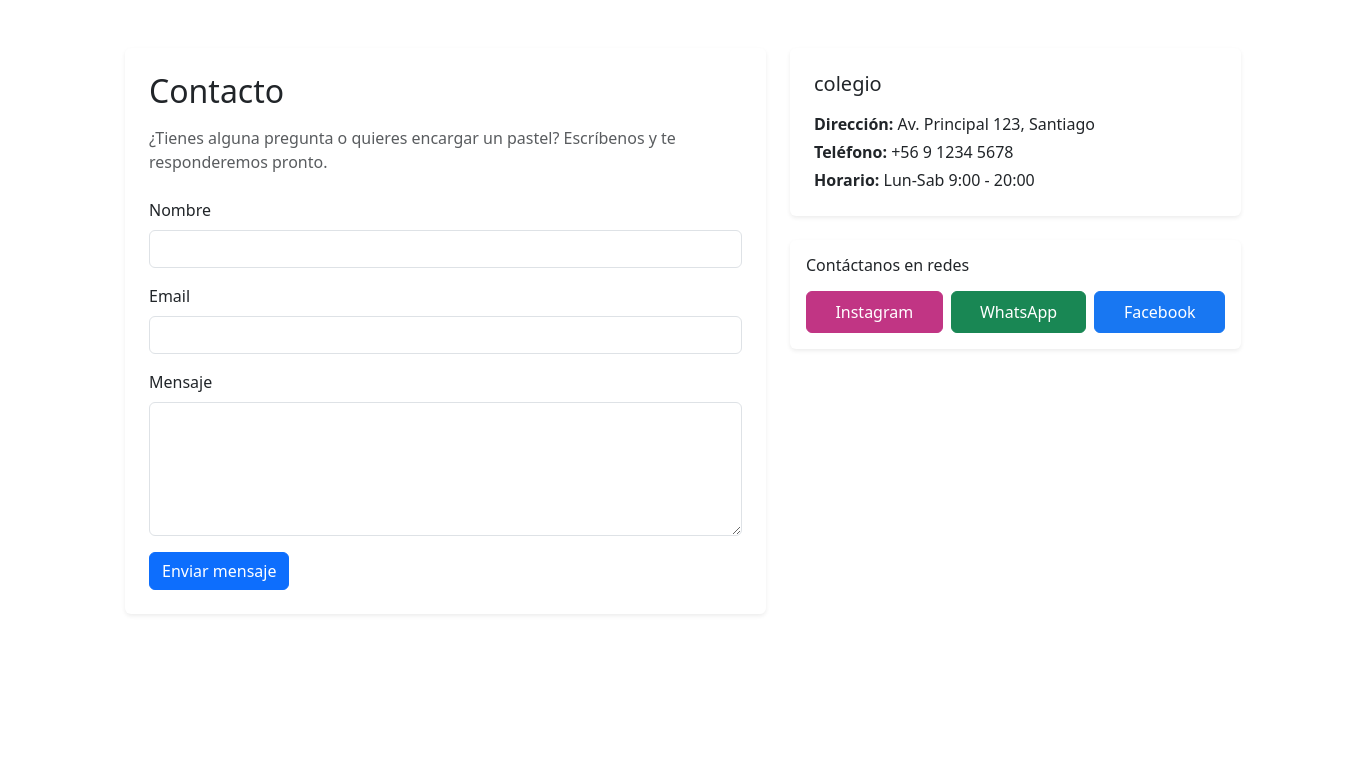
Test: Contacto page › debe validar que el nombre sea requerido
The width and height of the screenshot is (1366, 768).
Click the button "Enviar mensaje" at (219, 571), box [149,552,290,590]
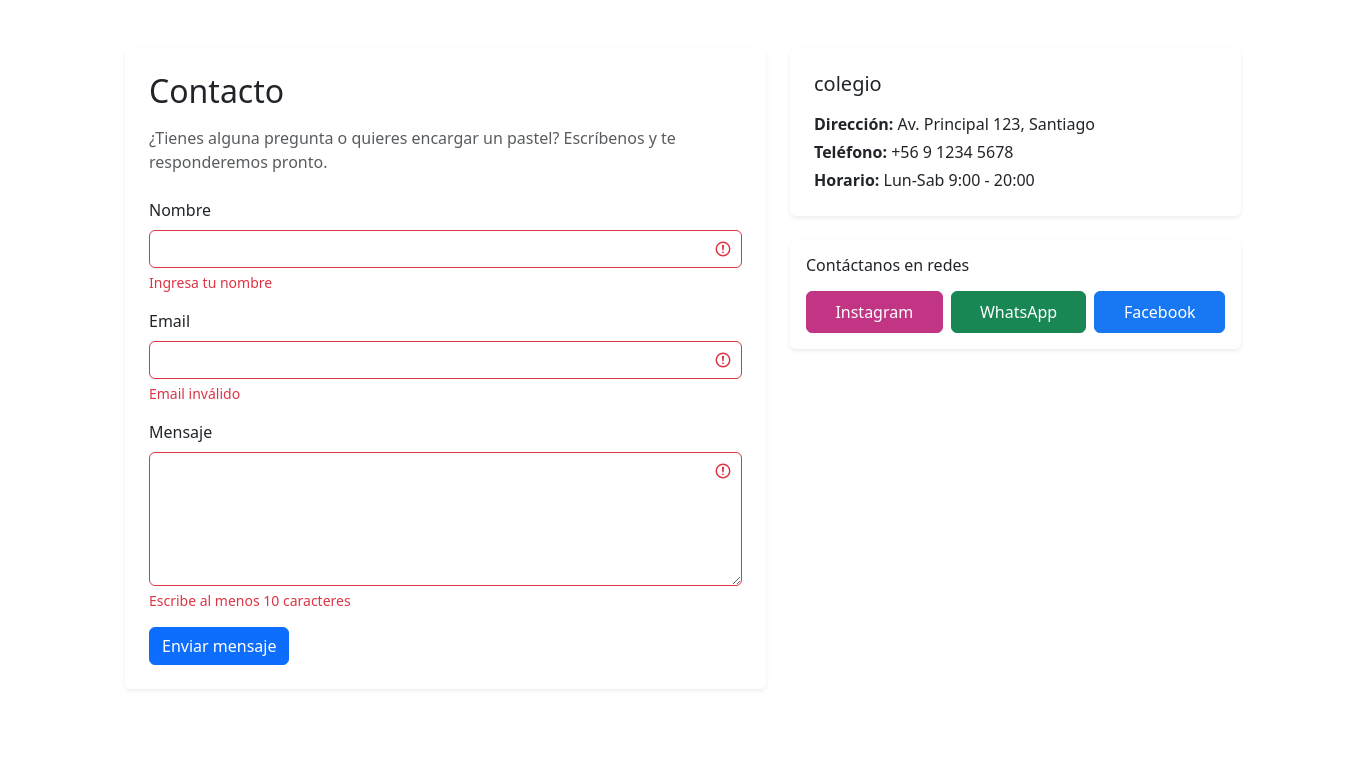
Now the text "Ingresa tu nombre" is shown, box [149,273,272,292]
